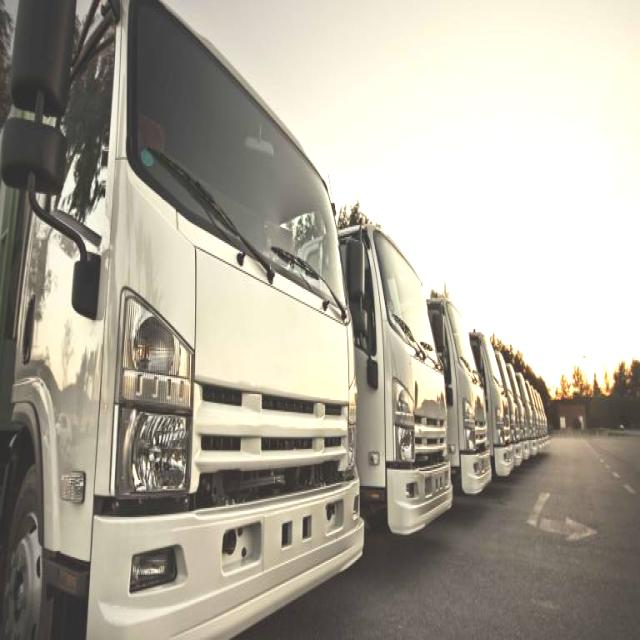TRUCK: (4, 0, 358, 629)
